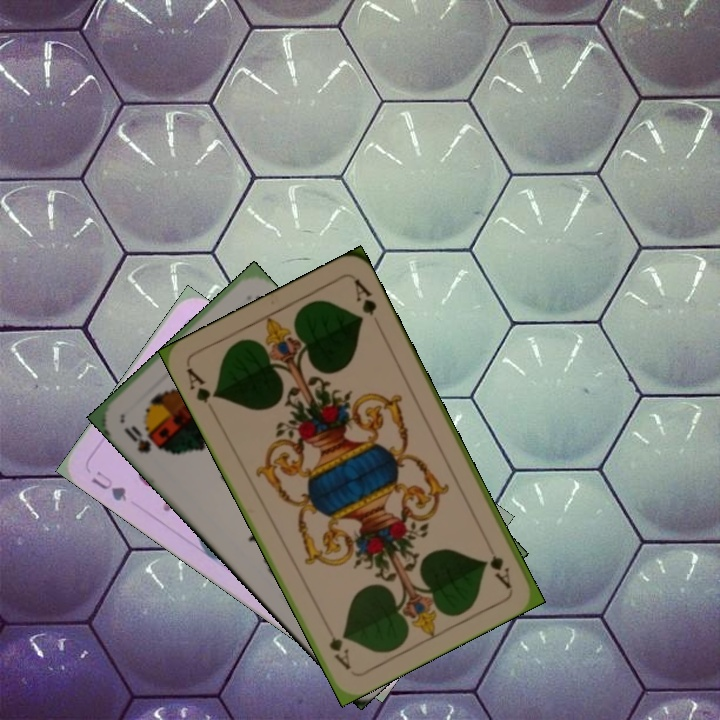GA: (481, 535, 515, 591), (182, 363, 220, 406)
GU: (87, 466, 132, 505)
SO: (119, 421, 165, 456)
